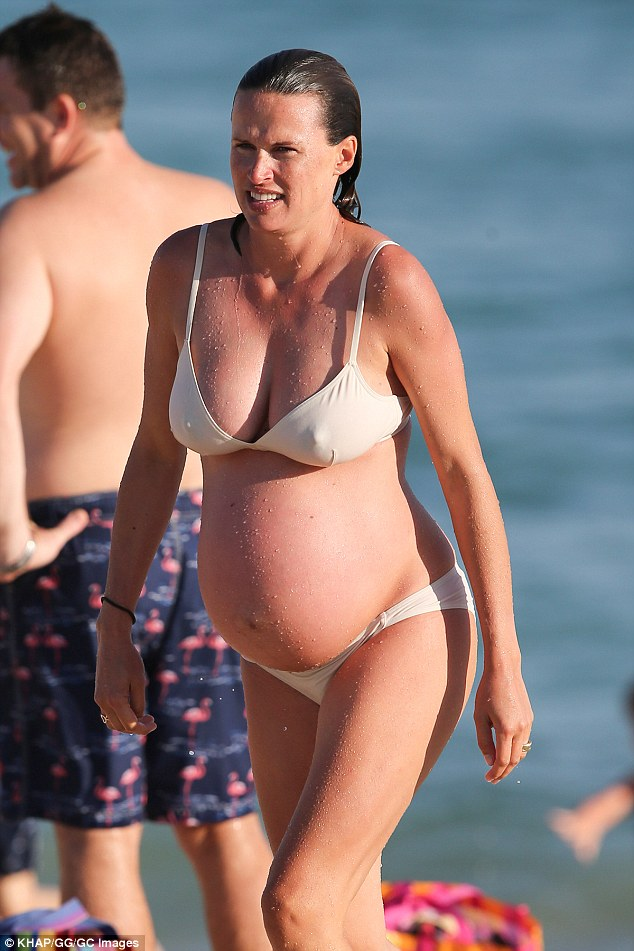Person: (96, 50, 534, 937), (1, 4, 231, 218)
